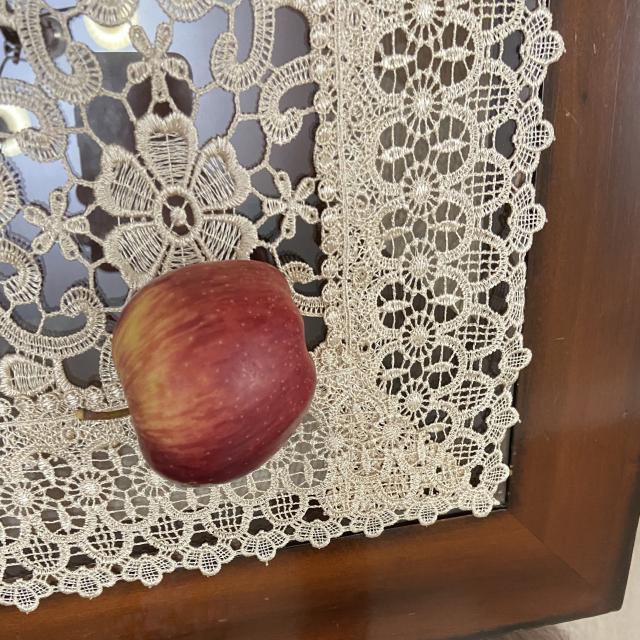apple: (72, 256, 320, 487)
